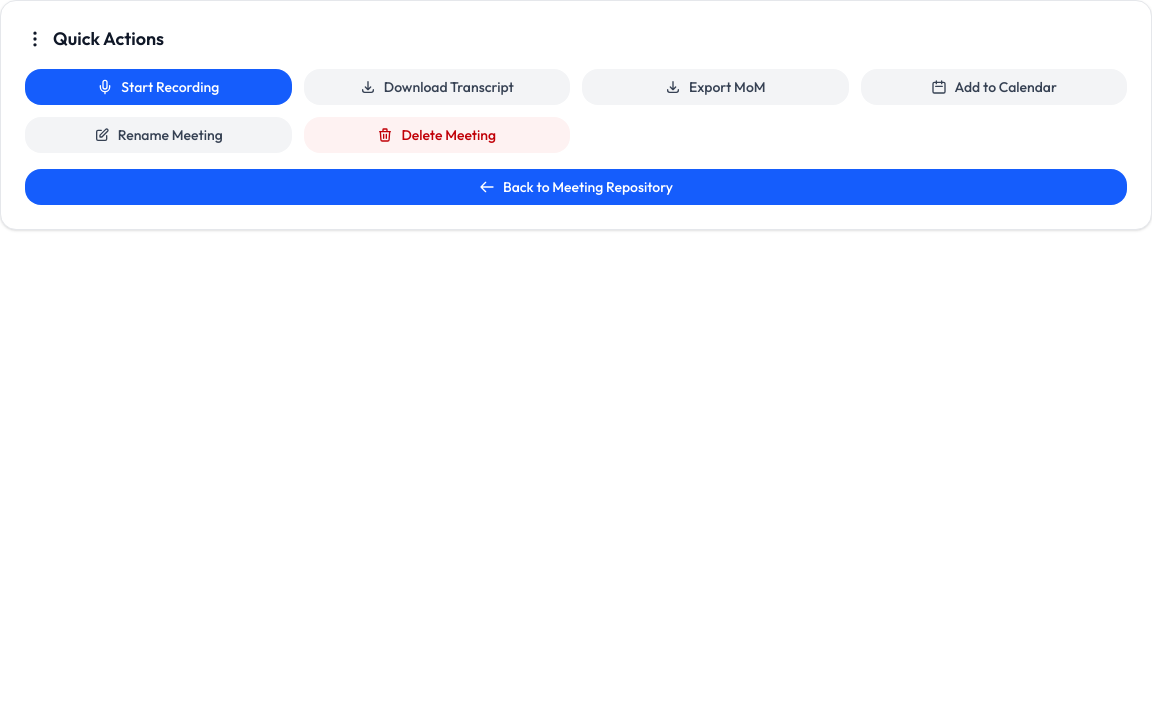
Meeting Delete & Rename Modals - Accessibility & Dark Mode (#838) › renders Delete Modal with proper dialog role and ARIA labels
// Open Delete Modal
Click the button "Delete Meeting" at {"x": 437, "y": 135}, box [304, 117, 570, 153]
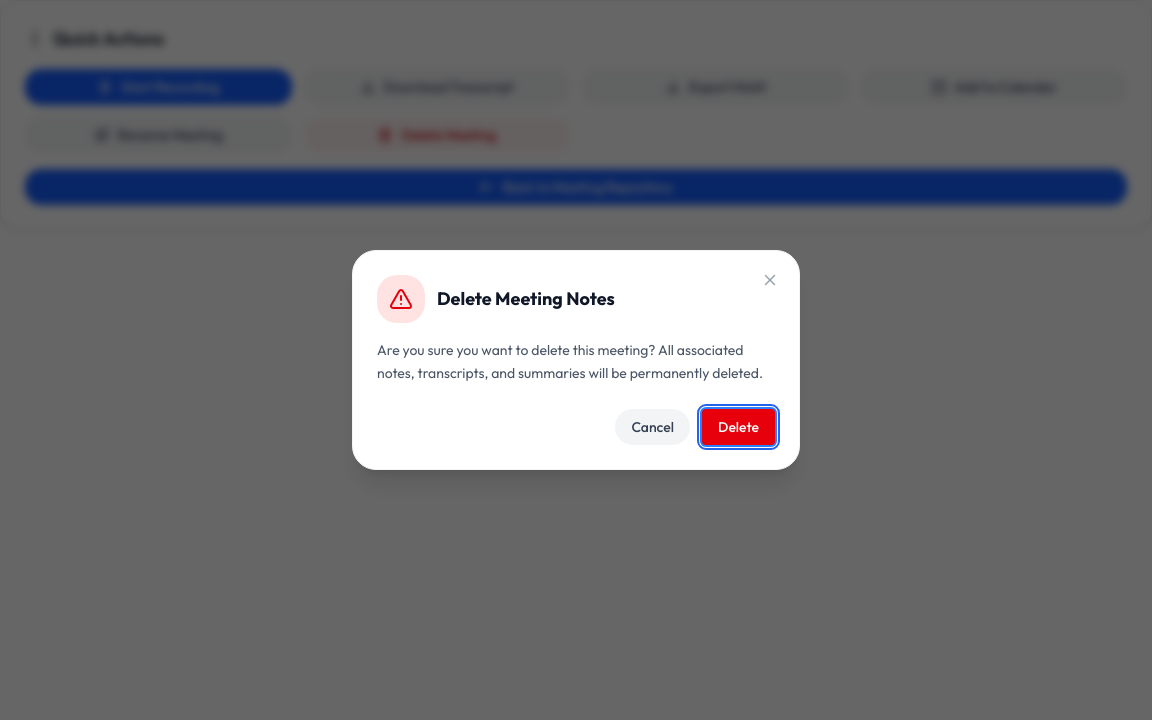
Expected: the dialog is shown
